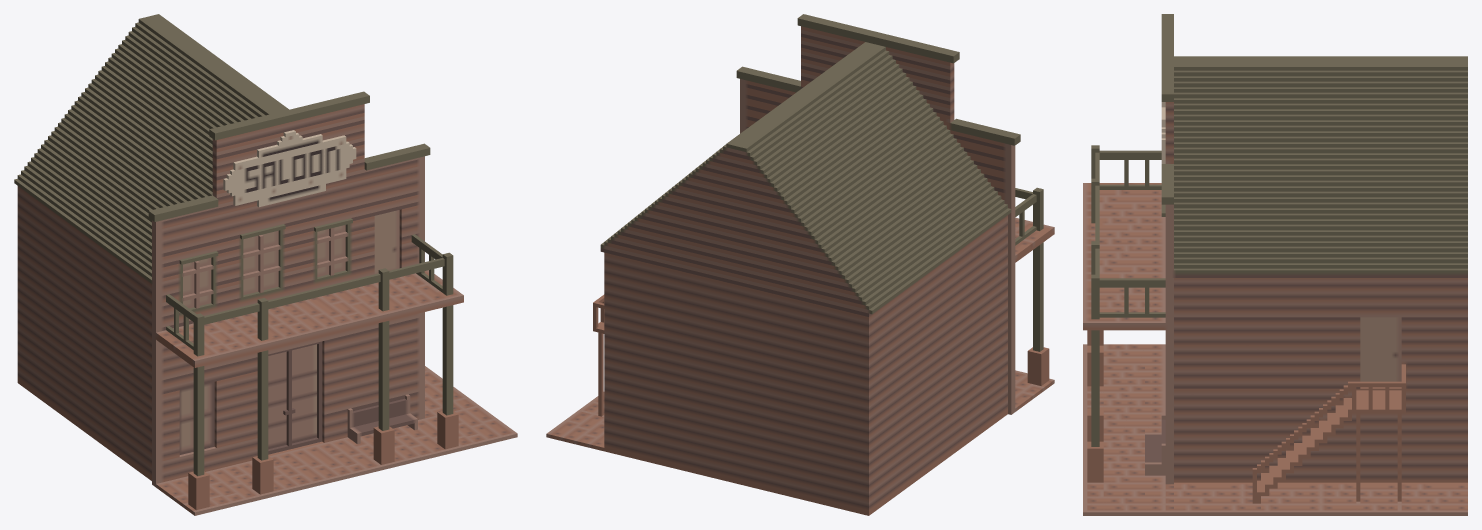
File: Saloon 2.obj
3 views of the same model, side by side, from view 1: azimuth 30°, elevation 25°; view 2: azimuth 150°, elevation 25°; view 3: azimuth 270°, elevation 25° (orthographic). The views are drawn at different scales.
Bounding box in the file's own units: 97 × 97 × 93.
1 material, 1 textured.
